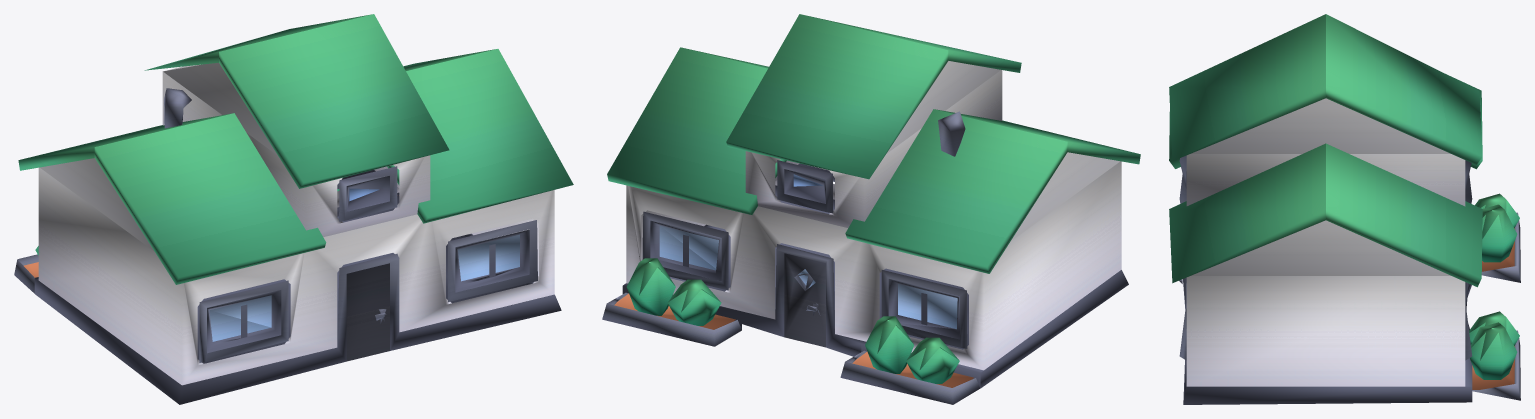
Rendered from house-a-medium.glb.
The picture shows the model from 3 angles, left to right: view 1: azimuth 30°, elevation 25°; view 2: azimuth 150°, elevation 25°; view 3: azimuth 270°, elevation 25°; orthographic projection. The views are drawn at different scales.
Visible parts, largest first — view 1: building-type-a baked; view 2: building-type-a baked; view 3: building-type-a baked.
Part boxes in pixels (bbox=[...]): building-type-a baked: bbox=[14, 14, 573, 404]; building-type-a baked: bbox=[602, 14, 1140, 404]; building-type-a baked: bbox=[1169, 14, 1520, 404].
Size of the model in its own units: 10.92 by 7 by 8.48.
1 material, 1 textured.
